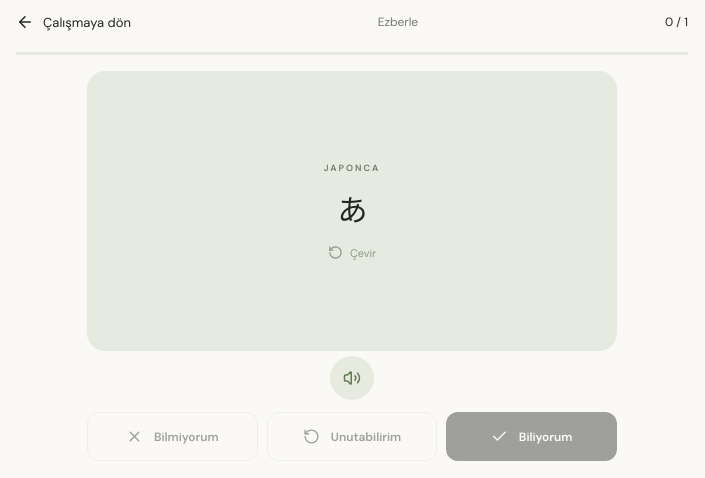
Test case: Japanese study interface › hides the alphabet reading until the card is flipped
The image size is (705, 478).
Click the button with aria-label "Romaji okunuşunu göster" at (352, 211), box [87,71,617,351]
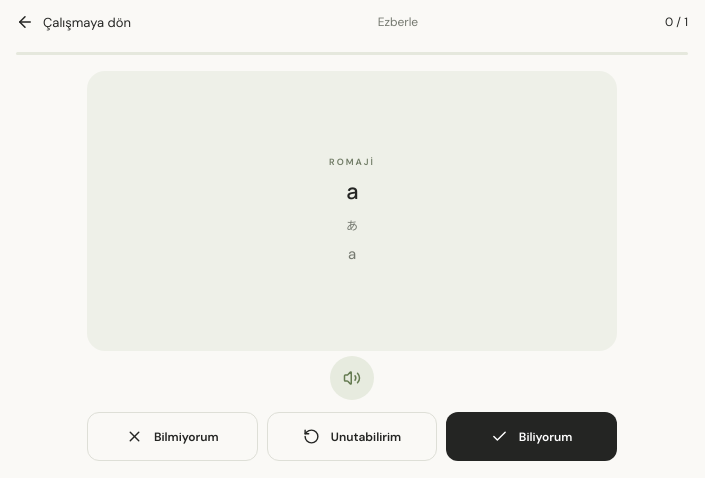
Now the 1st text "a" is shown, box [346,178,358,206]
